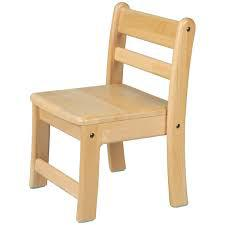chair: (24, 8, 194, 210)
